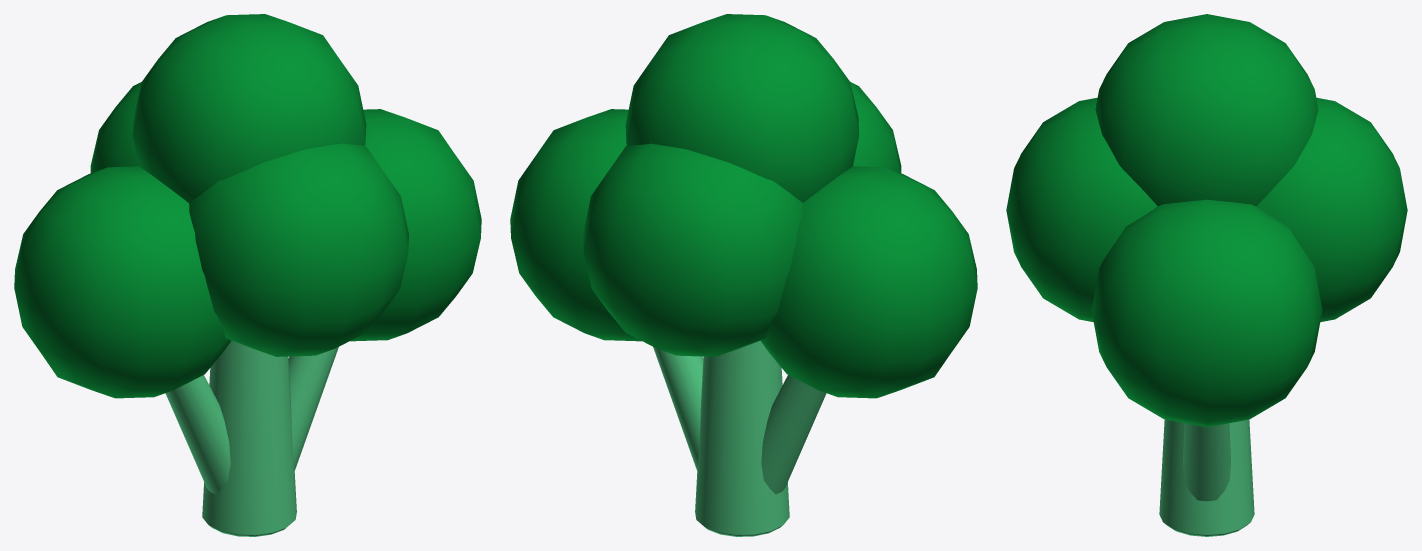
The model's file is Store_19_Broccoli_2.glb.
The picture shows the model from 3 angles, left to right: view 1: azimuth 30°, elevation 25°; view 2: azimuth 150°, elevation 25°; view 3: azimuth 270°, elevation 25°; orthographic projection.
Visible parts, largest first — view 1: Store_19_Broccoli_2; view 2: Store_19_Broccoli_2; view 3: Store_19_Broccoli_2.
Part boxes in pixels (x1,y1,x2,y2): Store_19_Broccoli_2: (14,14,481,536); Store_19_Broccoli_2: (510,14,977,536); Store_19_Broccoli_2: (1006,14,1407,536).
Size of the model in its own units: 0.3998 by 0.4341 by 0.3208.
Materials: 1 (1 with a texture image).
